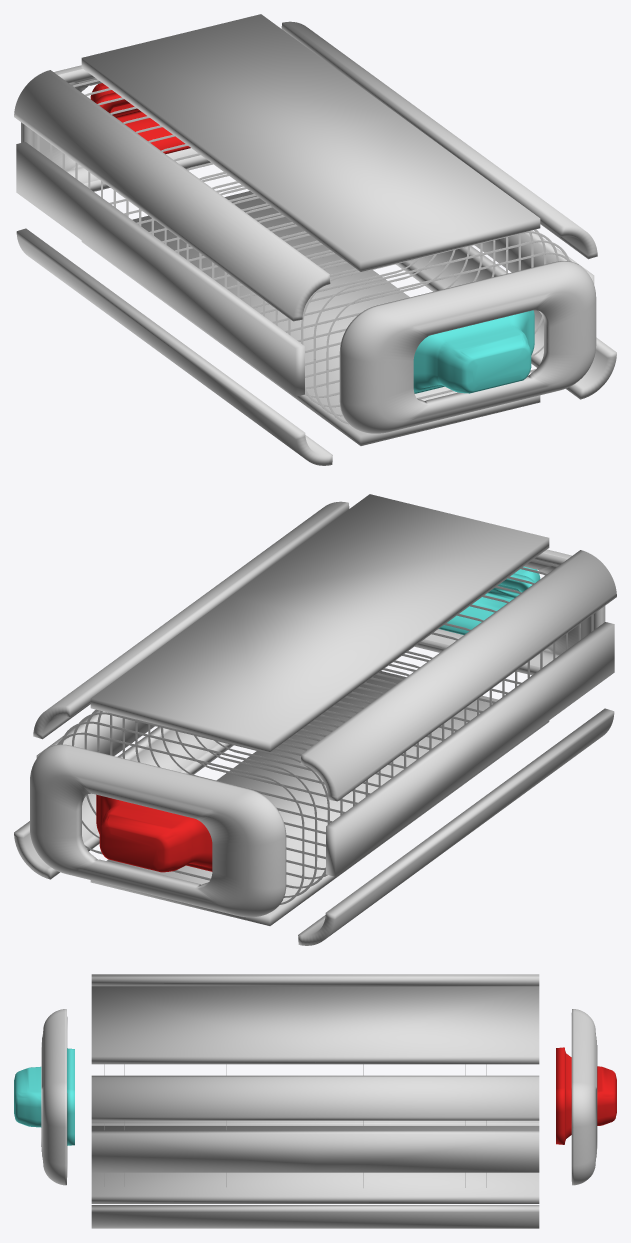
File: mapv3.fbx
3 renders of one model, top to bottom at view 1: azimuth 30°, elevation 25°; view 2: azimuth 150°, elevation 25°; view 3: azimuth 270°, elevation 25°, orthographic. The views are drawn at different scales.
Visible parts, largest first — view 1: haut, goal1, haut cote2, cote2, bas, bas cote 2, Cube.001, haut cote1, bas cote 1, goal2, Cube.002, cote1 (+4 smaller); view 2: haut, goal2, haut cote2, cote2, bas, bas cote 2, haut cote1, Cube.002, bas cote 1, goal1, cote1, Cube.001 (+4 smaller); view 3: haut, haut cote1, cote1, bas, bas cote 1, haut cote2, goal2, goal1, bas cote 2, Cube.002, Cube.001.
Part boxes in pixels (bbox=[...]): haut: bbox=[81, 14, 540, 271]; goal1: bbox=[339, 261, 596, 433]; haut cote2: bbox=[14, 70, 330, 321]; cote2: bbox=[16, 142, 304, 396]; bas: bbox=[81, 191, 540, 445]; bas cote 2: bbox=[16, 228, 332, 465]; Cube.001: bbox=[413, 310, 534, 393]; haut cote1: bbox=[281, 21, 597, 259]; bas cote 1: bbox=[396, 246, 616, 399]; goal2: bbox=[21, 65, 210, 191]; Cube.002: bbox=[90, 83, 190, 153]; cote1: bbox=[474, 230, 594, 284]; haut: bbox=[90, 494, 549, 751]; goal2: bbox=[30, 744, 286, 917]; haut cote2: bbox=[300, 550, 616, 801]; cote2: bbox=[326, 622, 614, 876]; bas: bbox=[90, 671, 549, 925]; bas cote 2: bbox=[298, 708, 614, 945]; haut cote1: bbox=[33, 501, 349, 739]; Cube.002: bbox=[96, 794, 212, 872]; bas cote 1: bbox=[14, 727, 233, 879]; goal1: bbox=[415, 549, 605, 675]; cote1: bbox=[36, 710, 154, 757]; Cube.001: bbox=[439, 566, 540, 634]; haut: bbox=[91, 986, 539, 1064]; haut cote1: bbox=[91, 1075, 539, 1120]; cote1: bbox=[91, 1130, 539, 1172]; bas: bbox=[91, 1126, 539, 1203]; bas cote 1: bbox=[91, 1205, 539, 1228]; haut cote2: bbox=[91, 974, 539, 986]; goal2: bbox=[571, 1009, 597, 1185]; goal1: bbox=[41, 1009, 67, 1185]; bas cote 2: bbox=[91, 1120, 539, 1125]; Cube.002: bbox=[556, 1047, 616, 1144]; Cube.001: bbox=[14, 1048, 74, 1145].
Size of the model in its own units: 103 by 59.44 by 207.
